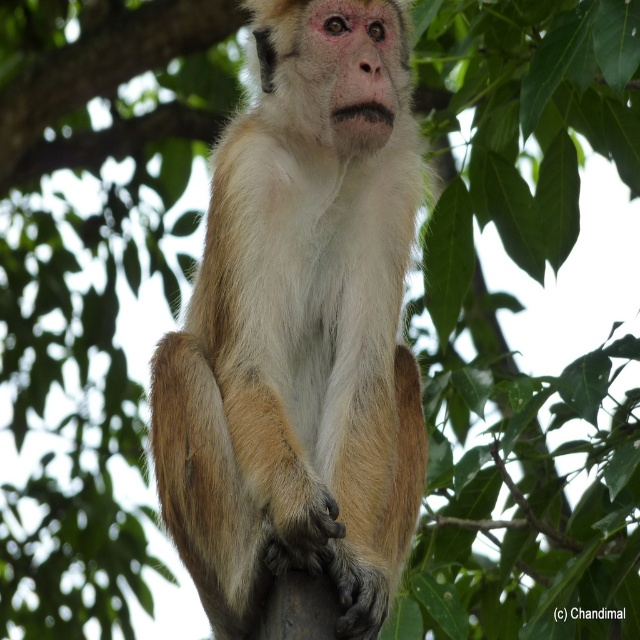Monkey: (144, 12, 442, 640)
